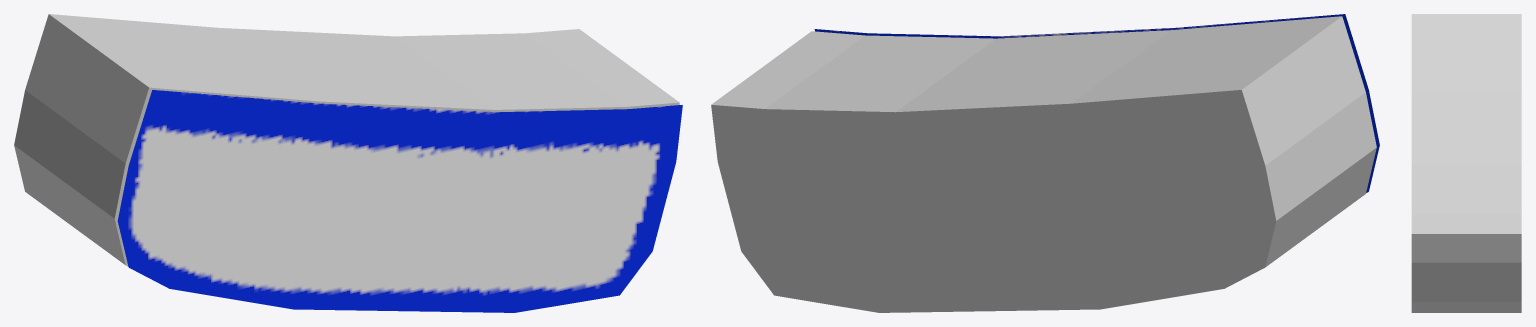
The picture shows the model from 3 angles, left to right: view 1: azimuth 30°, elevation 25°; view 2: azimuth 150°, elevation 25°; view 3: azimuth 270°, elevation 25°; orthographic projection. The views are drawn at different scales.
Visible parts, largest first — view 1: In_3_1, In_3_0; view 2: In_3_0, In_3_1; view 3: In_3_0.
Boxes of the visible parts, x1,y1,x2,y2 form: In_3_1: (117, 90, 682, 312); In_3_0: (14, 14, 679, 266); In_3_0: (711, 16, 1376, 312); In_3_1: (814, 14, 1379, 192); In_3_0: (1411, 14, 1521, 312).
Size of the model in its own units: 1.62 by 0.8771 by 0.515.
2 materials, 1 textured.
